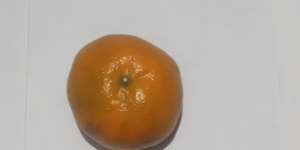BAD: (63, 30, 185, 150)
